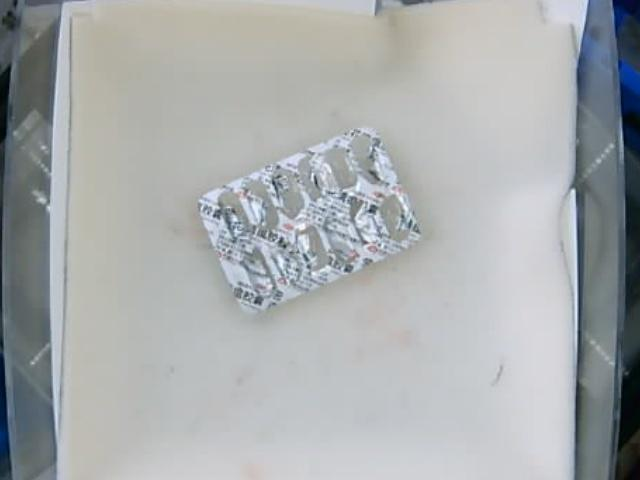Medicine: (204, 126, 423, 311)
